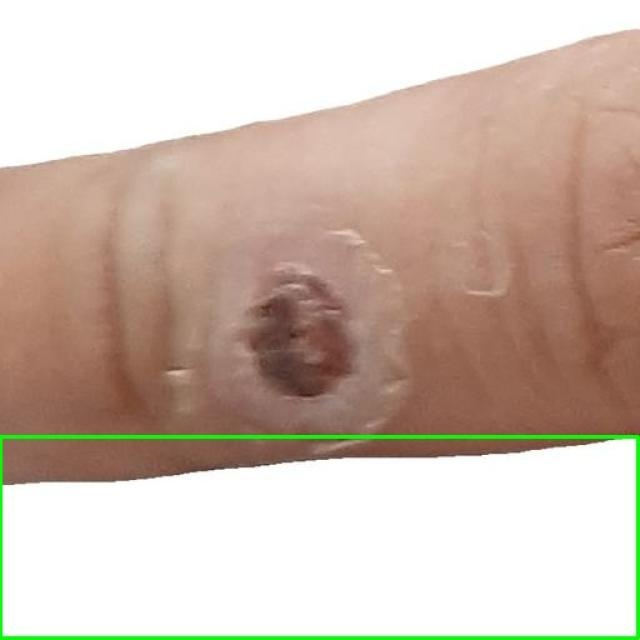Scabies: (0, 438, 639, 639)
